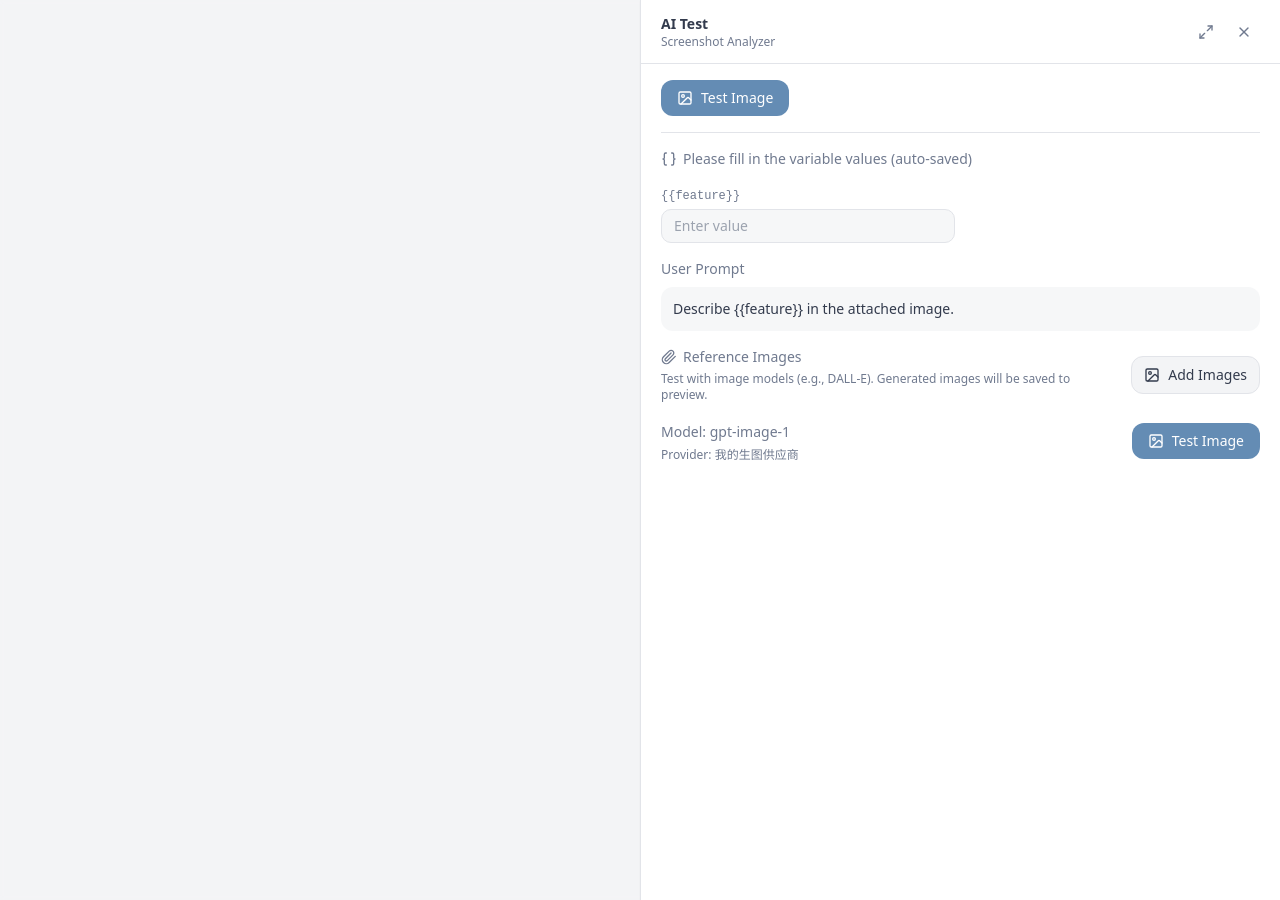
Test: AiTestModal workbench › filters unsafe generated image URLs before rendering
Click the button "Test Image" in the row of "我的生图供应商".
click(1196, 441)  # box [1132,423,1260,459]
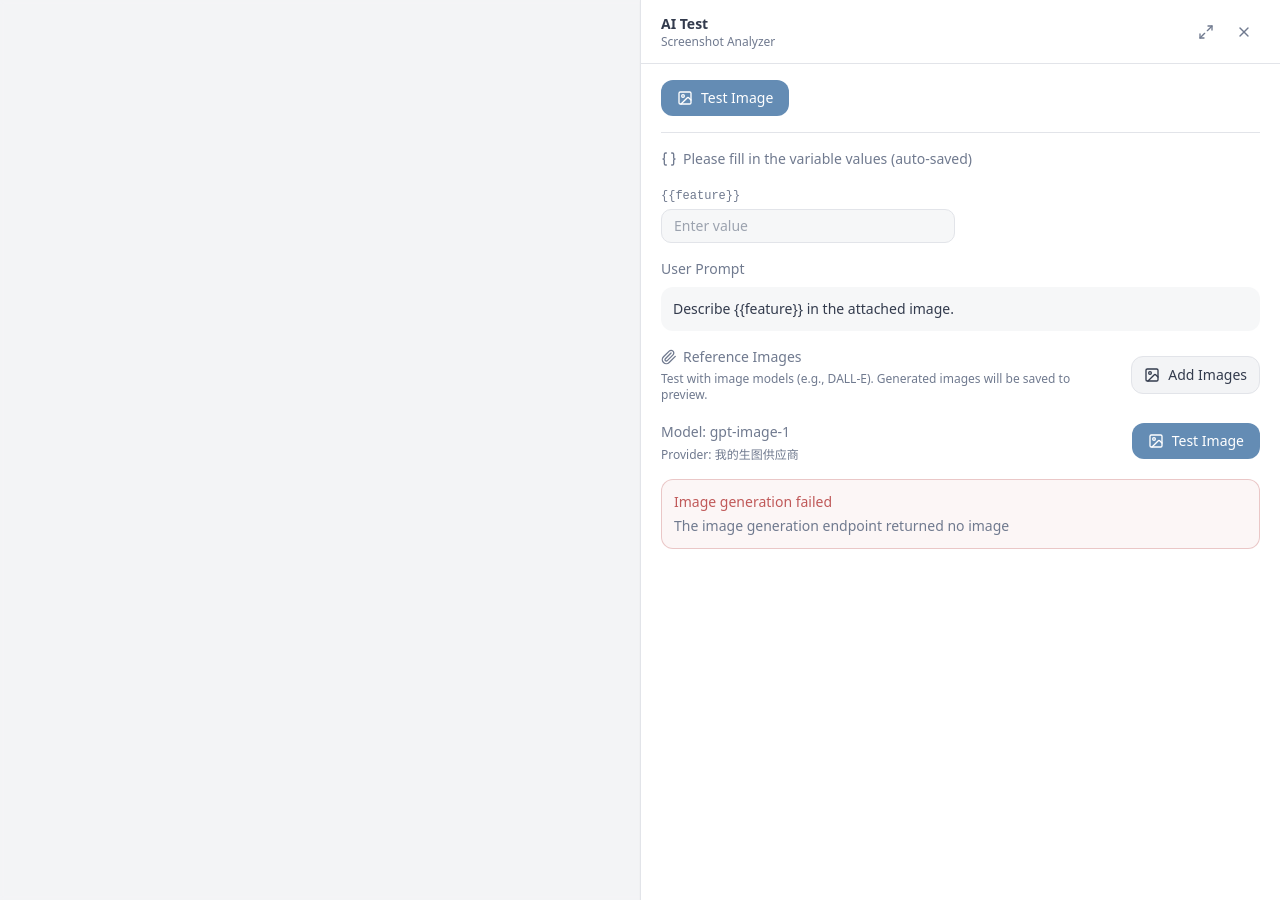
Now the text "The image generation endpoint returned no image" is shown, box [674,516,1009,535]
